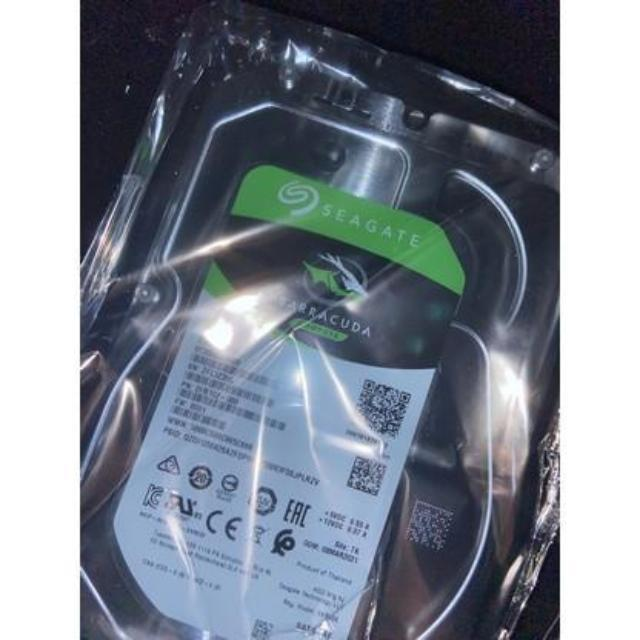DISK: (97, 86, 545, 631)
